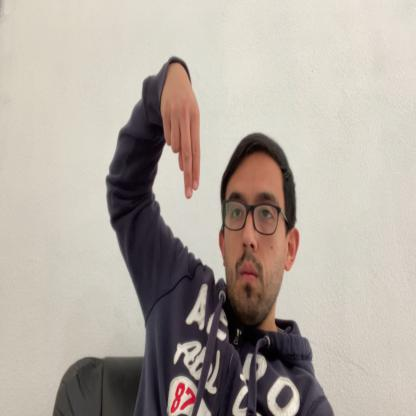N: (162, 62, 201, 201)
